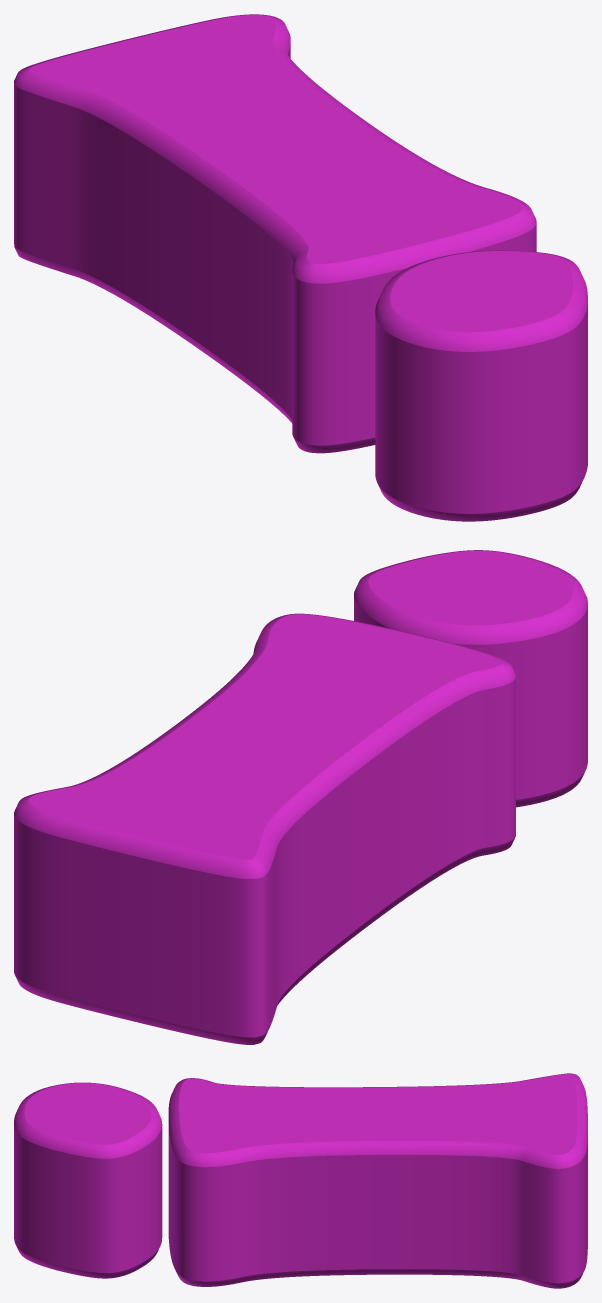
The model's file is Bubble_Letter_i.fbx.
3 renders of one model, top to bottom at view 1: azimuth 30°, elevation 25°; view 2: azimuth 150°, elevation 25°; view 3: azimuth 270°, elevation 25°, orthographic. The views are drawn at different scales.
Parts seen in each view (by area): view 1: BubbleLetter_i; view 2: BubbleLetter_i; view 3: BubbleLetter_i.
Part boxes in pixels (x1,y1,x2,y2): BubbleLetter_i: (14, 14, 587, 521); BubbleLetter_i: (14, 550, 587, 1044); BubbleLetter_i: (14, 1073, 587, 1288).
Size of the model in its own units: 0.2029 by 0.14 by 0.5459.
